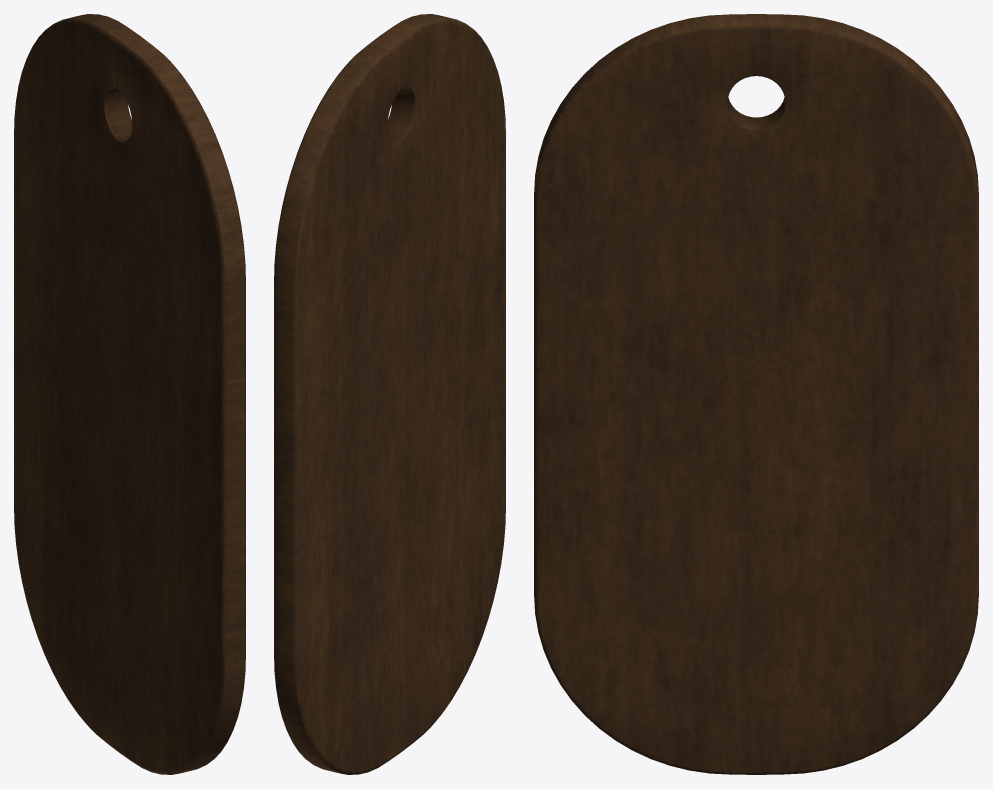
Rendered from kitchenware_cuttingboard_a01.glb.
The picture shows the model from 3 angles, left to right: view 1: azimuth 30°, elevation 25°; view 2: azimuth 150°, elevation 25°; view 3: azimuth 270°, elevation 25°; orthographic projection. The views are drawn at different scales.
Visible parts, largest first — view 1: kitchenware_cuttingboard_a01_lod1; view 2: kitchenware_cuttingboard_a01_lod1; view 3: kitchenware_cuttingboard_a01_lod1.
Part boxes in pixels (x1=…): kitchenware_cuttingboard_a01_lod1: x1=14, y1=14, x2=245, y2=774; kitchenware_cuttingboard_a01_lod1: x1=274, y1=14, x2=505, y2=774; kitchenware_cuttingboard_a01_lod1: x1=534, y1=14, x2=978, y2=774.
Bounding box in the file's own units: 0.0143 × 0.4 × 0.2145.
1 material, 1 textured.
